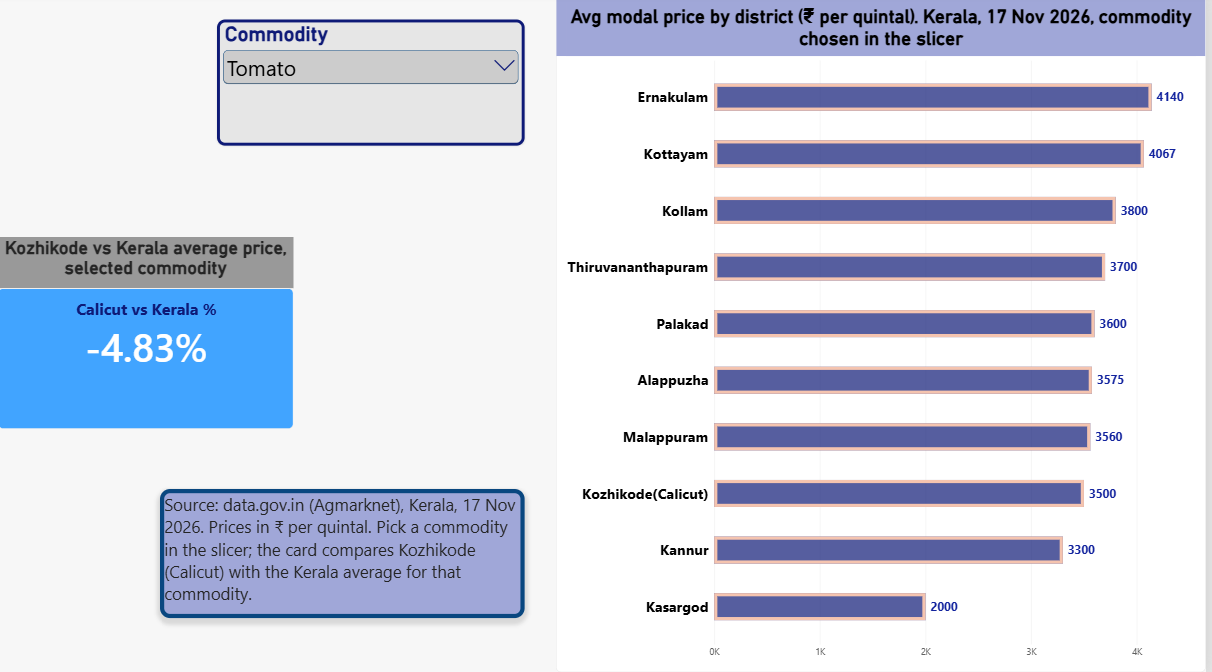

The page's visual inventory and layout, read from the dashboard file:
{"tool":"powerbi","page":{"name":"District Comparison","canvas":[1920,1080],"ordinal":1},"visuals":[{"type":"slicer","fields":{"Values":["raw.Commodity"]},"box":[348.3,40.6,489.1,200.4],"z":0},{"type":"clusteredBarChart","title":"Avg modal price by district (₹ per quintal). Kerala, 17 Nov 2026, commodity chosen in the slicer","fields":{"Category":["raw.District"],"Y":["raw.Avg Modal Price"]},"box":[887.6,0,1033.1,1078.4],"z":1000},{"type":"cardVisual","title":"Kozhikode vs Kerala average price, selected commodity","fields":{"Data":["raw.Calicut vs Kerala %"]},"box":[0,386.5,470,305.4],"z":2000},{"type":"textbox","box":[257.7,787.4,579.8,205.2],"z":3000}]}

Visuals, with their boxes in screenshot pixels (x1, y1, x2, y2), scaled from the page's 1920x1080 canvas onto the 1212x672 screenshot:
slicer - raw.Commodity: x1=220 y1=25 x2=529 y2=150
"Avg modal price by district (₹ per quintal). Kerala, 17 Nov 2026, commodity chosen in the slicer" clusteredBarChart: x1=560 y1=0 x2=1211 y2=671
"Kozhikode vs Kerala average price, selected commodity" cardVisual: x1=0 y1=240 x2=297 y2=431
textbox: x1=163 y1=490 x2=529 y2=618
